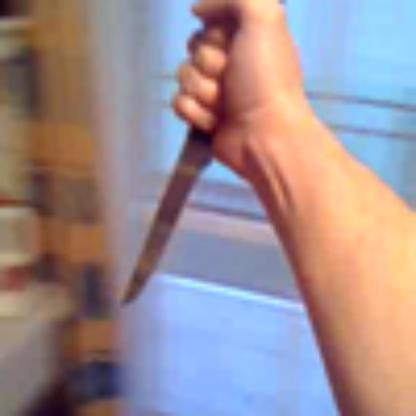knives: (112, 0, 278, 312)
